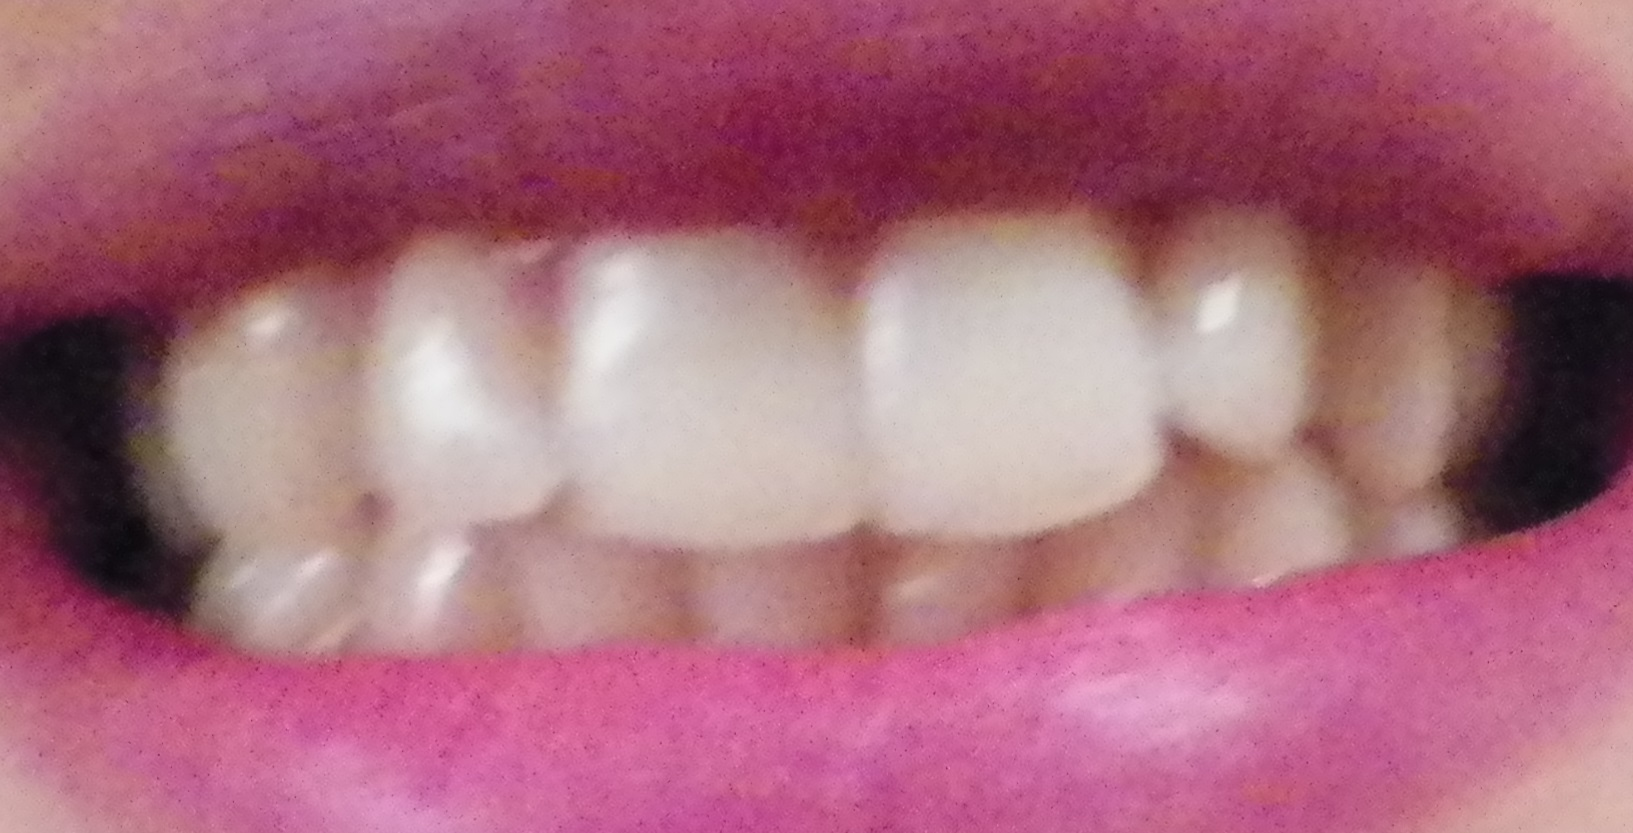boca: (173, 216, 1523, 663)
